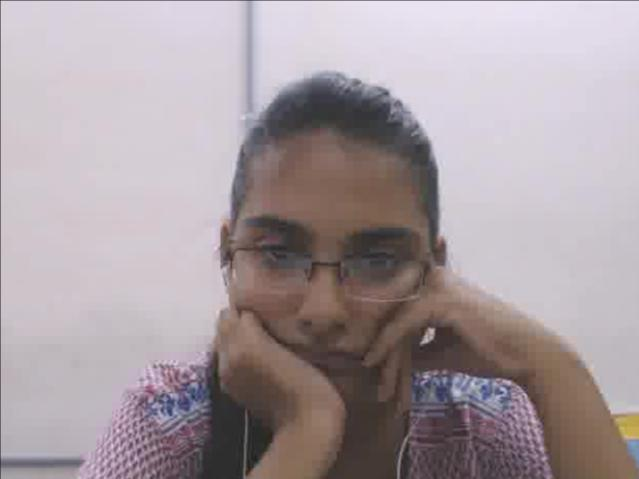bingung: (235, 154, 433, 400)
